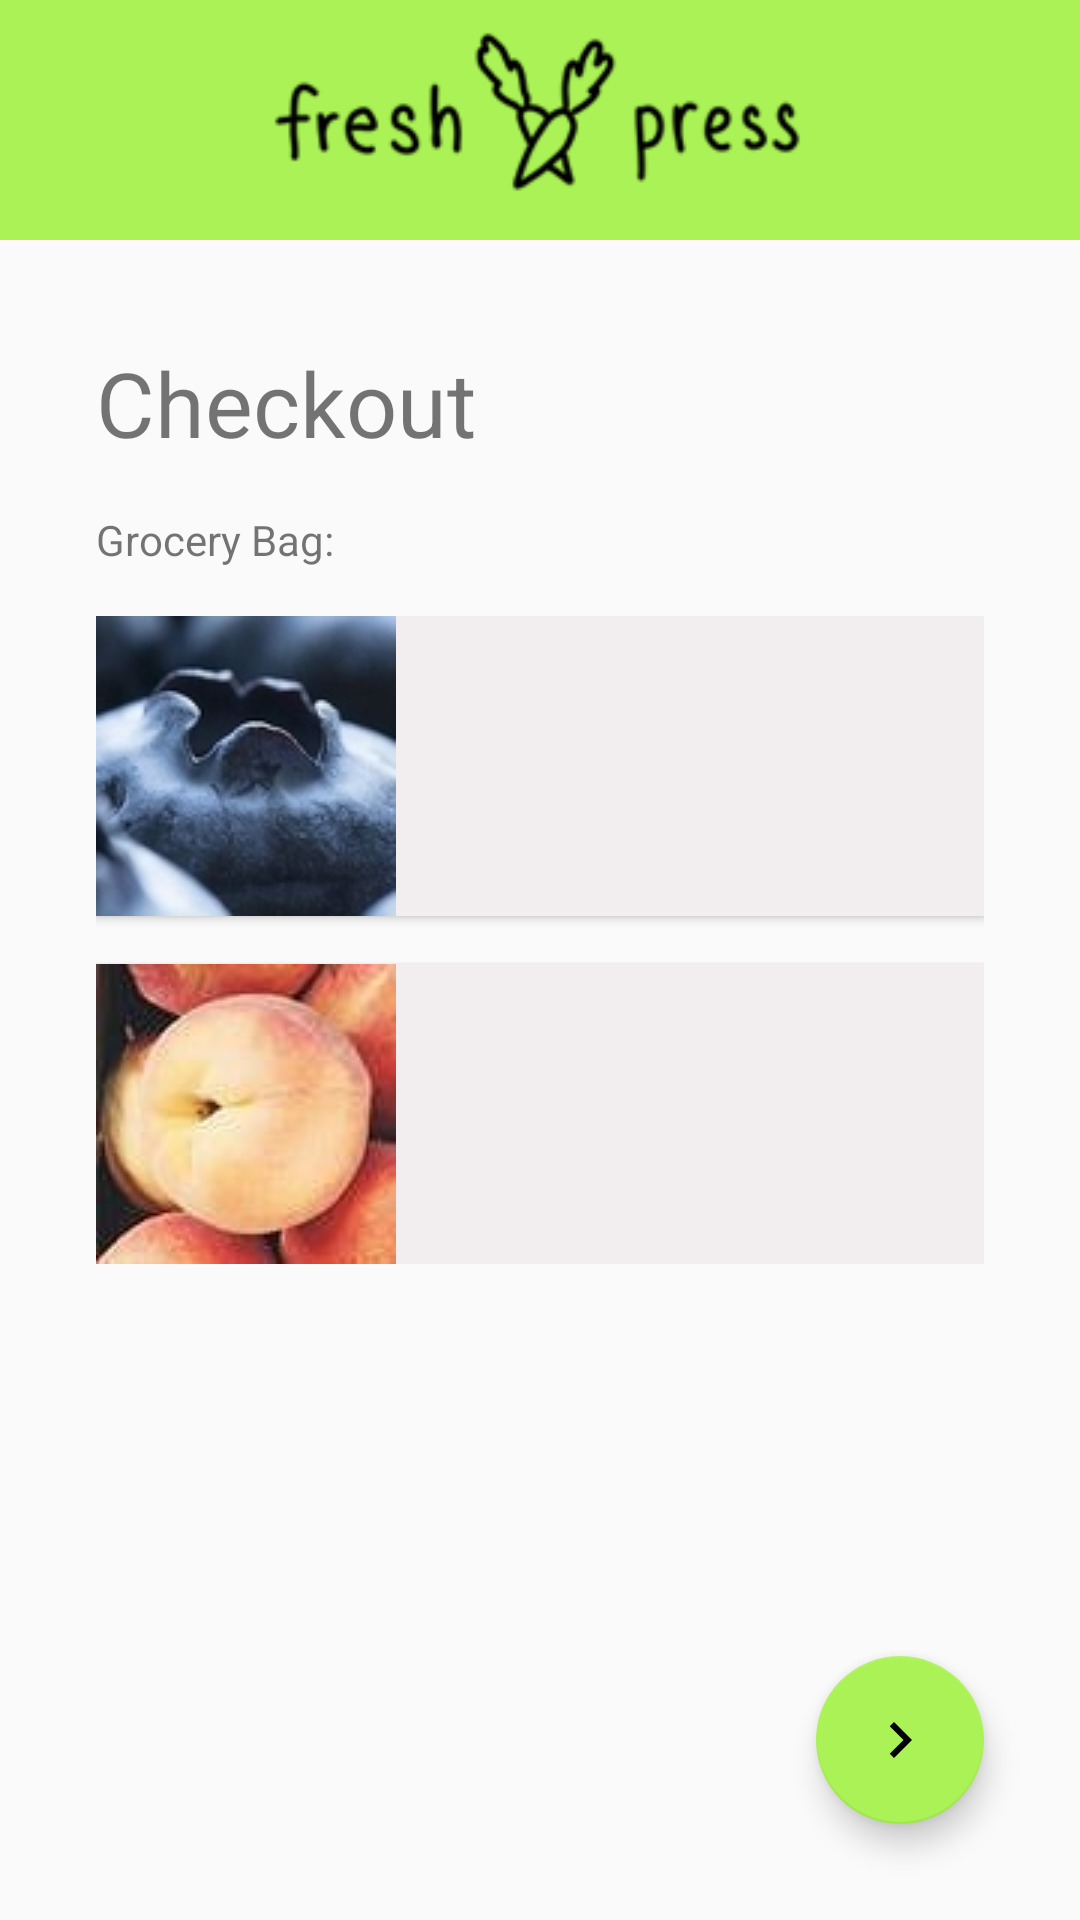

Named icons in this screenshot (1080*1920) and their centers, [x,y]:
next: [900,1740]
